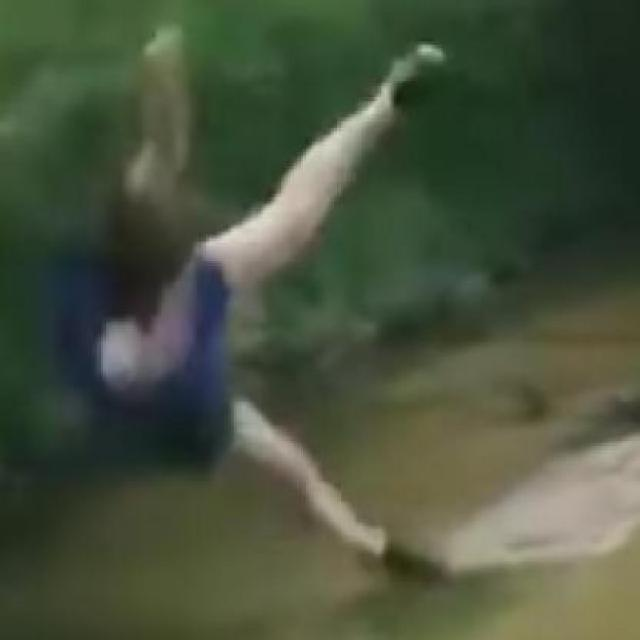fall: (50, 41, 465, 594)
